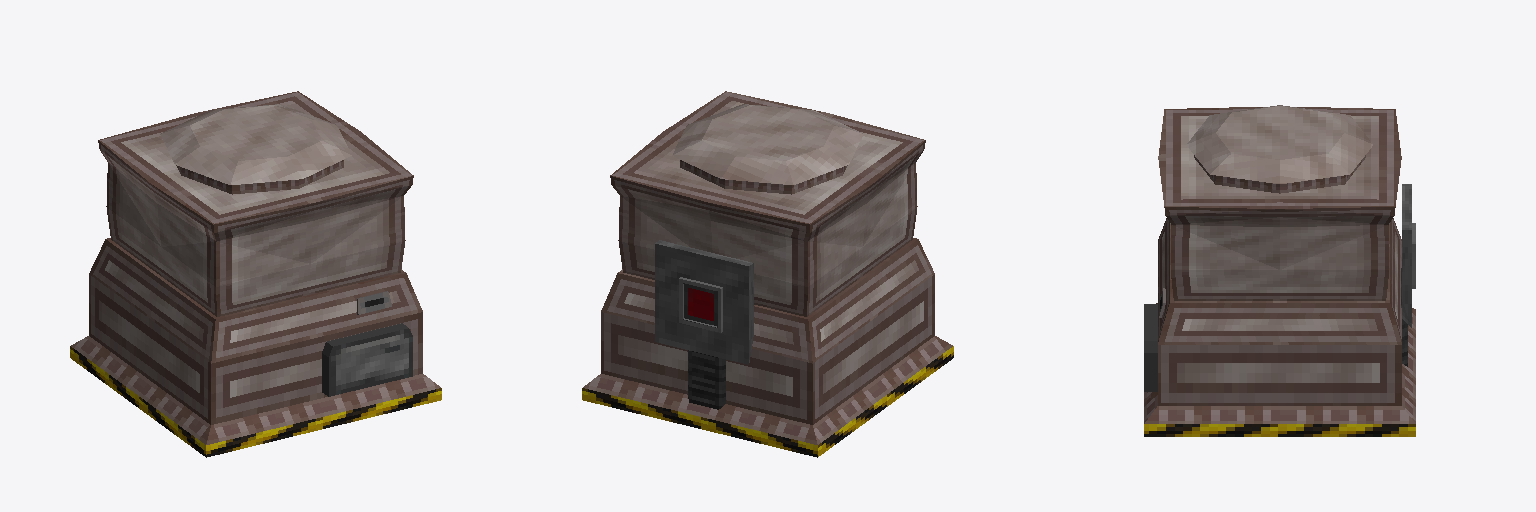
3 renders of one model, left to right at view 1: azimuth 30°, elevation 25°; view 2: azimuth 150°, elevation 25°; view 3: azimuth 270°, elevation 25°, orthographic.
Parts seen in each view (by area): view 1: Furnace_Crusher; view 2: Furnace_Crusher; view 3: Furnace_Crusher.
Part boxes in pixels (x1,y1,x2,y2): Furnace_Crusher: (70,91,441,457); Furnace_Crusher: (582,91,953,457); Furnace_Crusher: (1144,105,1415,436).
Bounding box in the file's own units: 2 × 2 × 2.
1 materials, 1 textured.